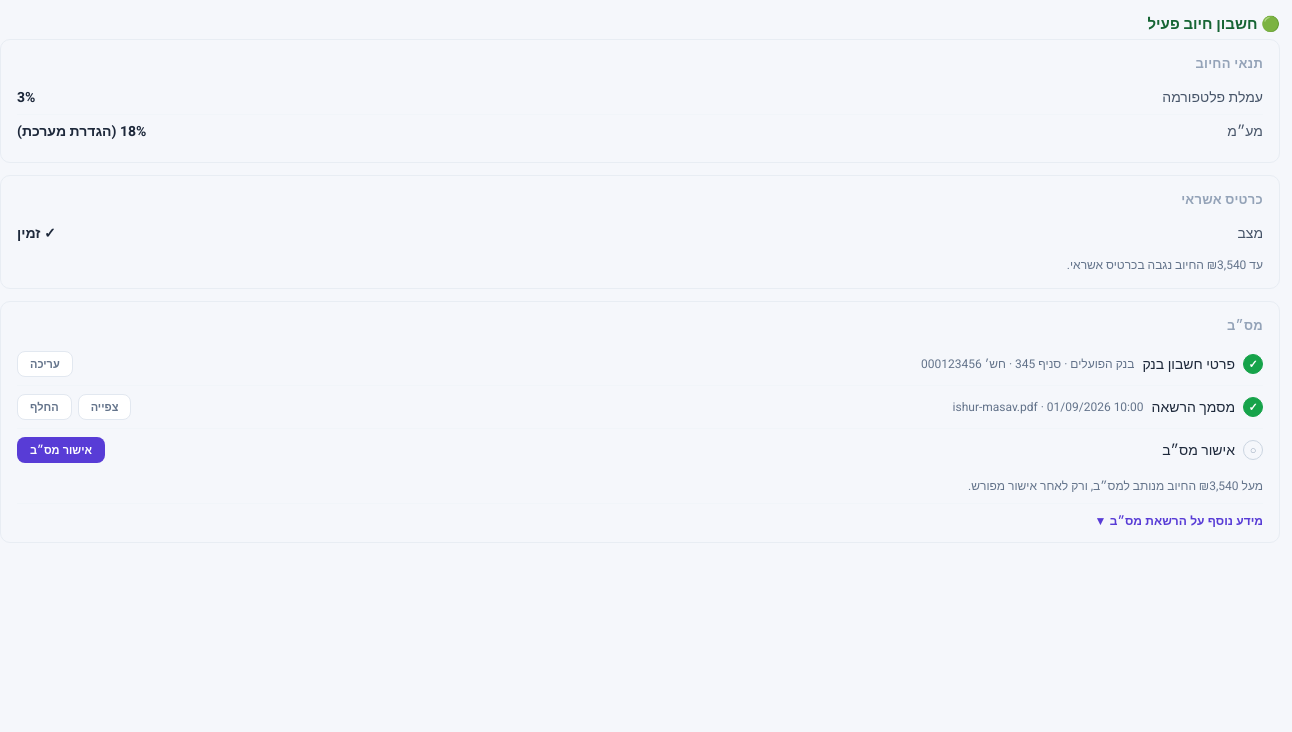
it: BillingEntitySetupComponent - מס״ב checklist (bank details + document, either order) › "עריכה" (bank) reveals the editable bank form on request, independently of the document section
Click the button "עריכה": (45, 364) [17,351,73,377]
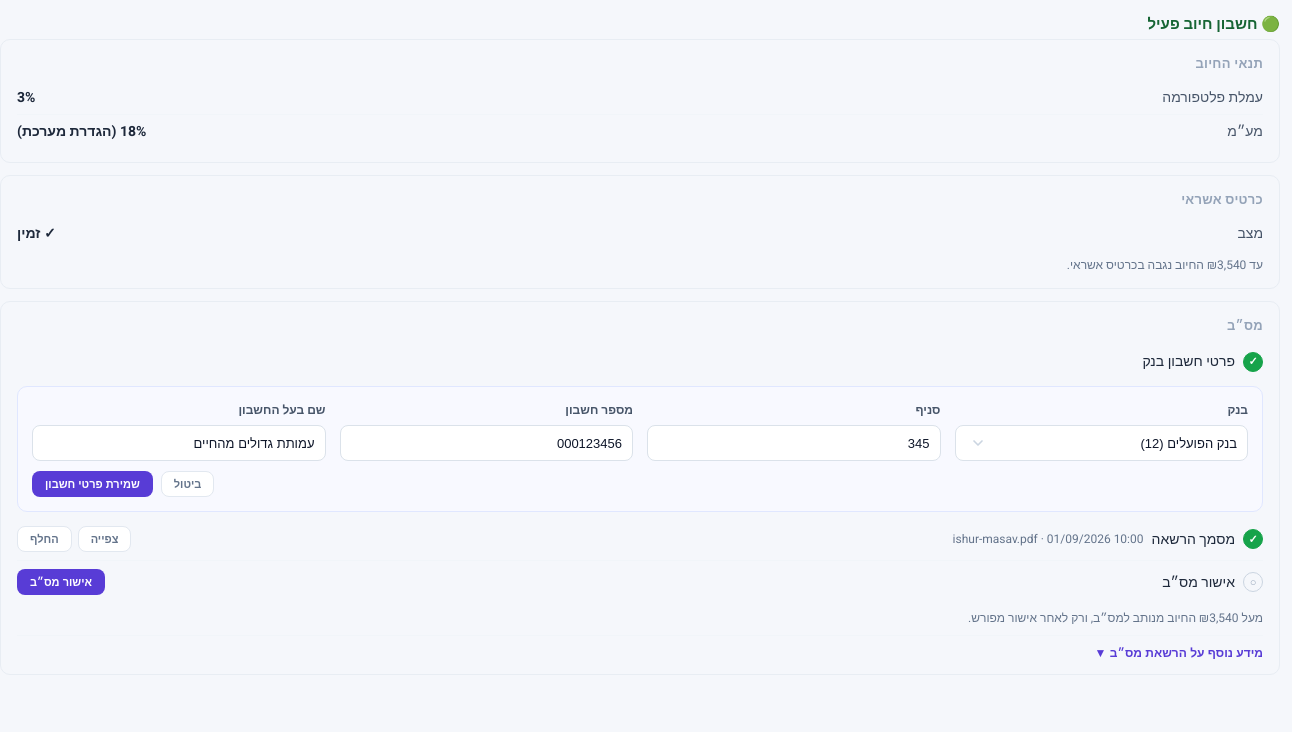
Expected: the element with class "ba-form" is shown, [17,386,1263,512]
